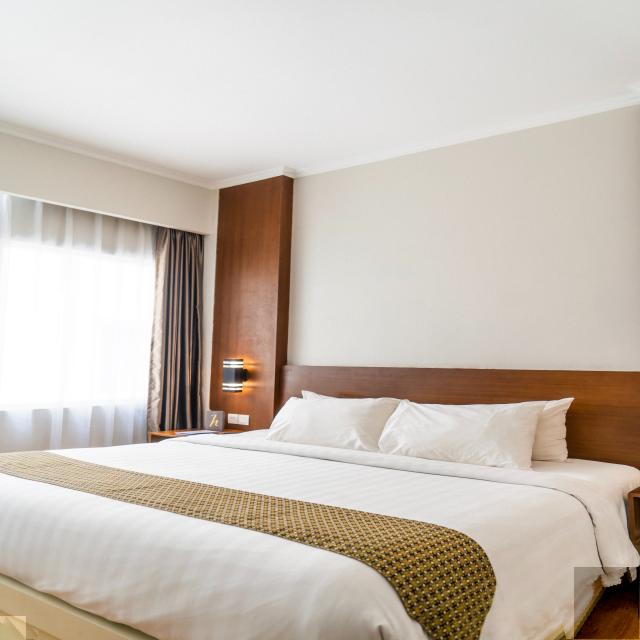floor: (575, 567, 639, 640), (0, 616, 26, 640)
